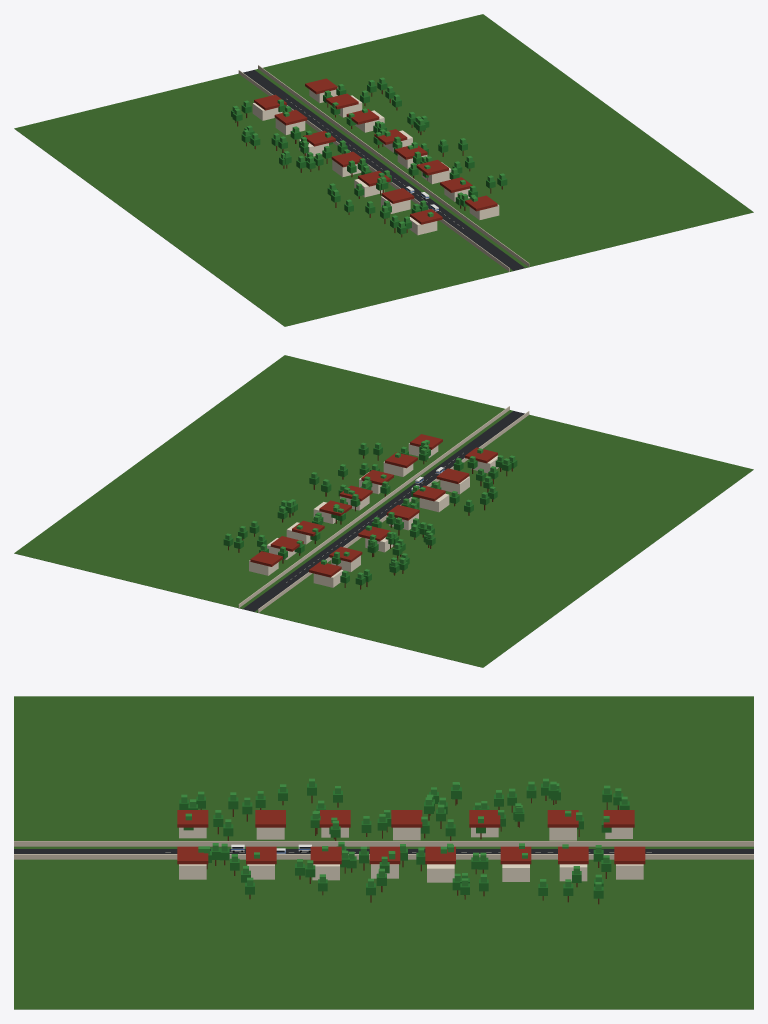
Rendered from set.glb.
3 views of the same model, one above another, from view 1: azimuth 30°, elevation 25°; view 2: azimuth 150°, elevation 25°; view 3: azimuth 270°, elevation 25° (orthographic). The views are drawn at different scales.
Bounding box in the file's own units: 240 × 8.39 × 240.
